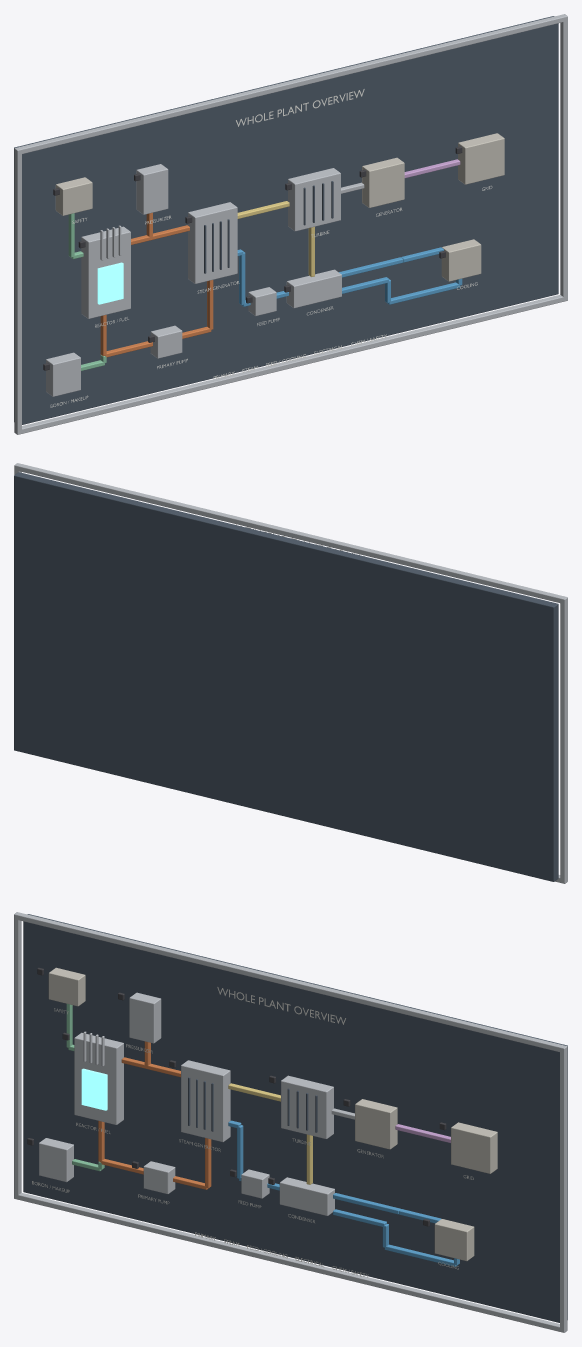
The model's file is PlantOverview.fbx.
The picture shows the model from 3 angles, top to bottom: view 1: azimuth 30°, elevation 25°; view 2: azimuth 150°, elevation 25°; view 3: azimuth 330°, elevation 25°; orthographic projection.
Parts seen in each view (by area): view 1: Board_Back, Frame_Top, Frame_Bottom, System_SteamGenerator, System_Reactor, System_Turbine, Frame_Left, Frame_Right, System_Grid, System_Generator, System_Condenser, System_Pressurizer (+6 smaller); view 2: Board_Back, Frame_Top, Frame_Left; view 3: Board_Back, Frame_Top, Frame_Bottom, System_SteamGenerator, System_Reactor, System_Turbine, Frame_Right, Frame_Left, System_Grid, System_Generator, System_Condenser, System_Pressurizer (+6 smaller).
Part boxes in pixels (bbox=[...]): Board_Back: bbox=[14, 16, 558, 424]; Frame_Top: bbox=[14, 14, 567, 154]; Frame_Bottom: bbox=[14, 295, 567, 434]; System_SteamGenerator: bbox=[188, 202, 237, 283]; System_Reactor: bbox=[81, 226, 130, 318]; System_Turbine: bbox=[288, 168, 340, 231]; Frame_Left: bbox=[14, 151, 21, 433]; Frame_Right: bbox=[560, 18, 567, 299]; System_Grid: bbox=[458, 133, 504, 184]; System_Generator: bbox=[362, 157, 404, 207]; System_Condenser: bbox=[286, 269, 341, 308]; System_Pressurizer: bbox=[136, 164, 168, 214]; Board_Back: bbox=[14, 472, 558, 881]; Frame_Top: bbox=[14, 463, 567, 603]; Frame_Left: bbox=[560, 599, 567, 881]; Board_Back: bbox=[23, 914, 567, 1322]; Frame_Top: bbox=[14, 912, 567, 1052]; Frame_Bottom: bbox=[14, 1193, 567, 1332]; System_SteamGenerator: bbox=[181, 1060, 230, 1142]; System_Reactor: bbox=[74, 1032, 123, 1124]; System_Turbine: bbox=[281, 1075, 333, 1138]; Frame_Right: bbox=[560, 1048, 567, 1331]; Frame_Left: bbox=[14, 916, 21, 1197]; System_Grid: bbox=[451, 1122, 497, 1173]; System_Generator: bbox=[355, 1099, 397, 1149]; System_Condenser: bbox=[279, 1177, 334, 1215]; System_Pressurizer: bbox=[129, 992, 161, 1043].
Size of the model in its own units: 7.75 by 3.83 by 0.4.
